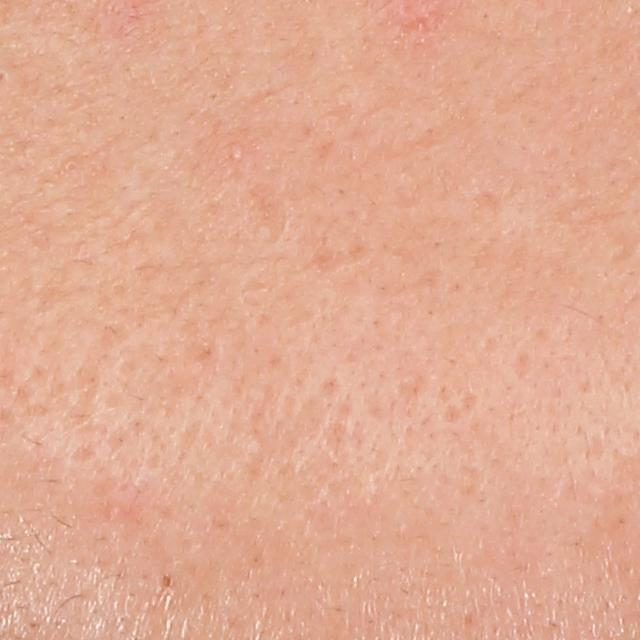atrophic_scar: (275, 398, 325, 468), (242, 191, 290, 240), (511, 352, 529, 384)
comedo: (226, 145, 245, 161)
